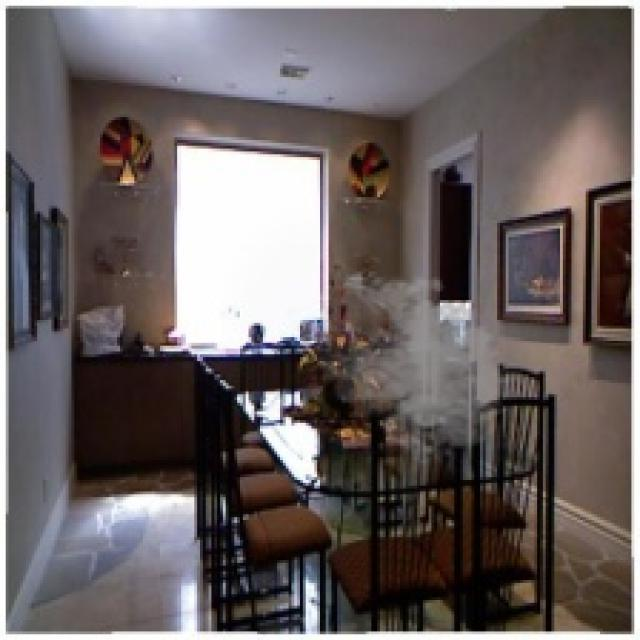Smoke: (312, 266, 517, 468)
